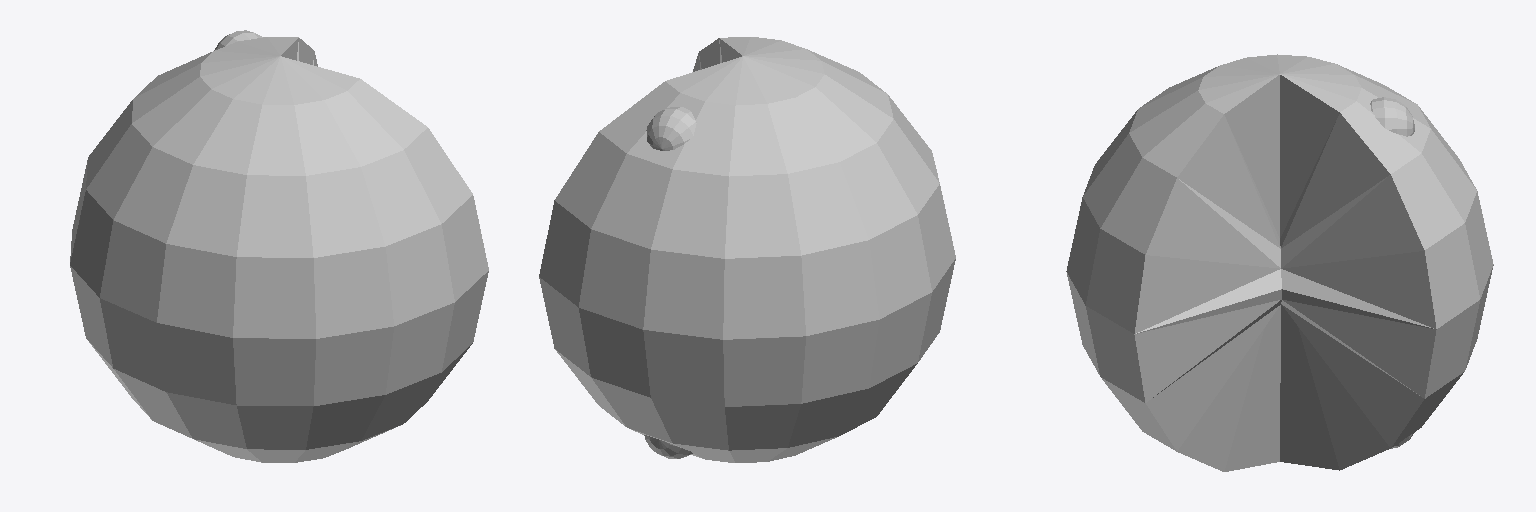
Rendered from pacman.obj.
The picture shows the model from 3 angles: view 1: azimuth 30°, elevation 25°; view 2: azimuth 150°, elevation 25°; view 3: azimuth 270°, elevation 25°; orthographic projection.
Parts seen in each view (by area): view 1: Pacman_Complete; view 2: Pacman_Complete; view 3: Pacman_Complete.
Part boxes in pixels (left/top/right/bottom): Pacman_Complete: left=70, top=30, right=488, bottom=462; Pacman_Complete: left=539, top=37, right=955, bottom=462; Pacman_Complete: left=1066, top=54, right=1493, bottom=471.
Size of the model in its own units: 1.58 by 1.83 by 1.83.